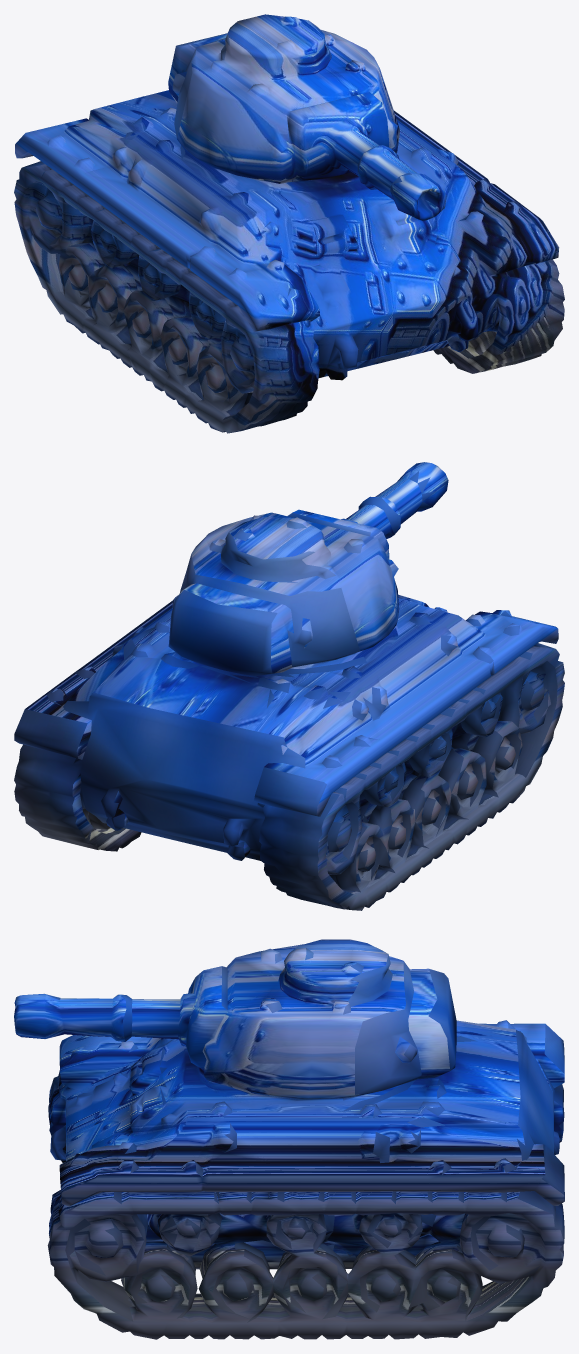
Rendered from blue_tank.glb.
3 views of the same model, one above another, from view 1: azimuth 30°, elevation 25°; view 2: azimuth 150°, elevation 25°; view 3: azimuth 270°, elevation 25° (orthographic). The views are drawn at different scales.
Parts seen in each view (by area): view 1: blue_tank; view 2: blue_tank; view 3: blue_tank.
Boxes of the visible parts, x1,y1,x2,y2 form: blue_tank: (14, 14, 564, 433); blue_tank: (14, 462, 564, 910); blue_tank: (14, 939, 564, 1339).
Bounding box in the file's own units: 4.31 × 4.05 × 6.5.
Materials: 1 (1 with a texture image).
